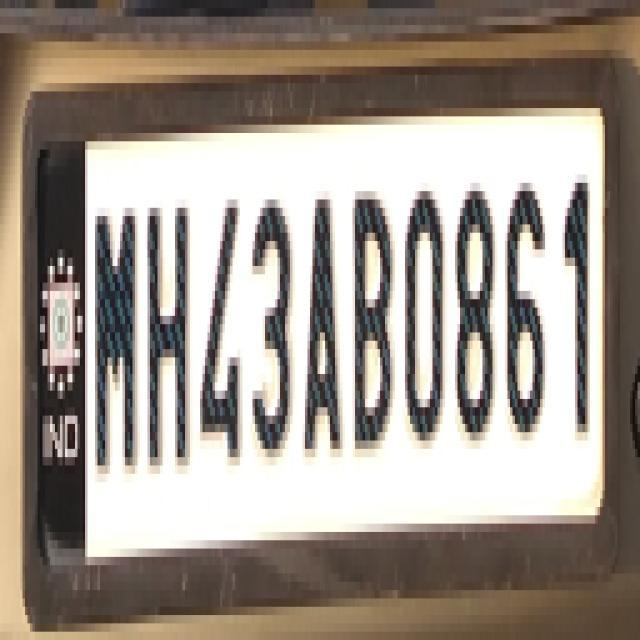0: (402, 175, 446, 450)
1: (558, 168, 594, 448)
3: (250, 184, 294, 479)
4: (196, 198, 246, 474)
6: (503, 162, 551, 444)
8: (452, 173, 497, 452)
A: (302, 179, 342, 479)
B: (348, 175, 398, 464)
H: (141, 190, 193, 472)
M: (90, 183, 142, 472)
